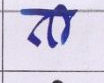i_matra: (54, 4, 69, 43)
